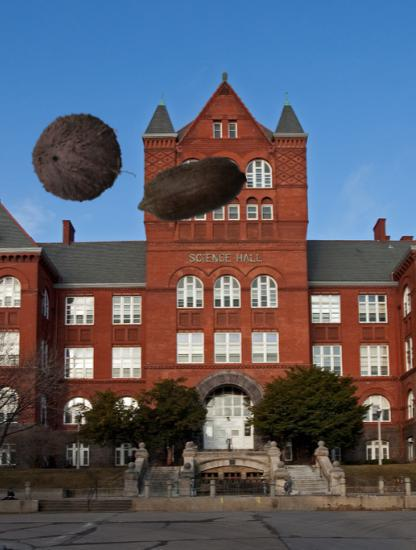Cocos: (30, 109, 127, 206)
Nut: (134, 134, 247, 247)
